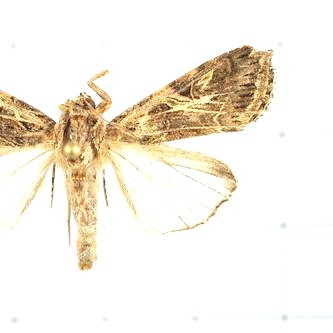Spodoptera litura: (1, 45, 276, 273)
